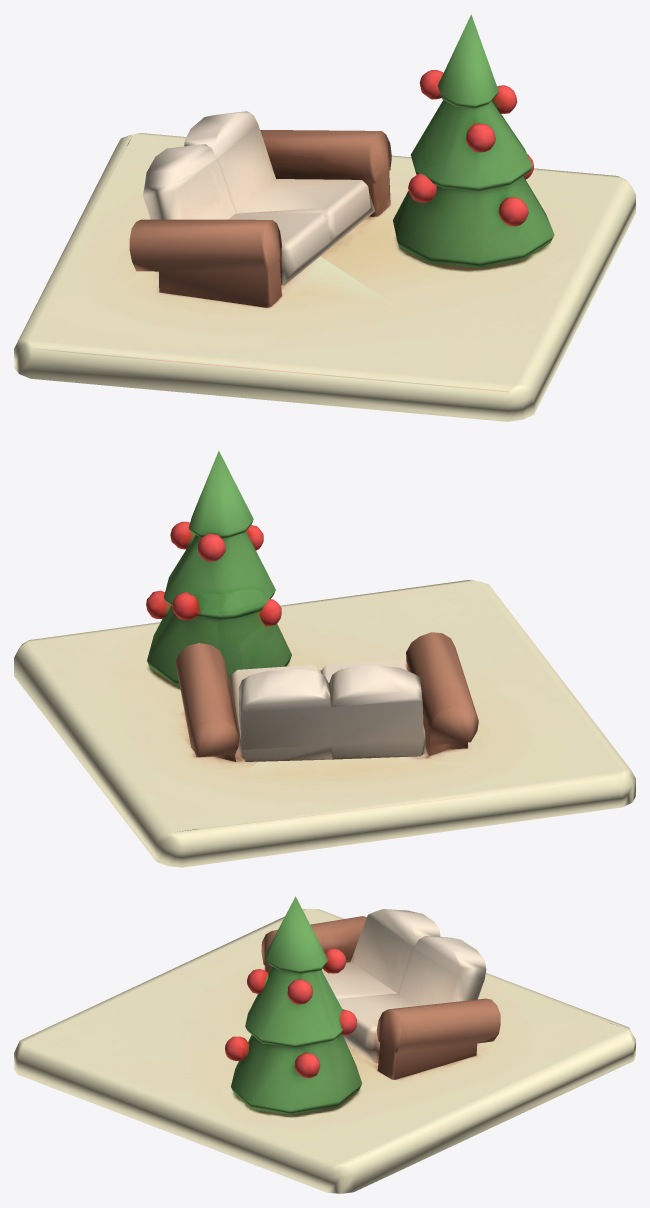
The picture shows the model from 3 angles, top to bottom: view 1: azimuth 30°, elevation 25°; view 2: azimuth 150°, elevation 25°; view 3: azimuth 270°, elevation 25°; orthographic projection. The views are drawn at different scales.
Visible parts, largest first — view 1: tripo_node_1f0e999a-bf4d-4a0e-8bee-c389e3c90471; view 2: tripo_node_1f0e999a-bf4d-4a0e-8bee-c389e3c90471; view 3: tripo_node_1f0e999a-bf4d-4a0e-8bee-c389e3c90471.
Part boxes in pixels (box(x1,y1,x2,y2)): tripo_node_1f0e999a-bf4d-4a0e-8bee-c389e3c90471: box(14, 14, 635, 421); tripo_node_1f0e999a-bf4d-4a0e-8bee-c389e3c90471: box(14, 450, 635, 867); tripo_node_1f0e999a-bf4d-4a0e-8bee-c389e3c90471: box(14, 896, 635, 1193).
Bounding box in the file's own units: 1.37 × 0.5332 × 1.37.
Materials: 1 (1 with a texture image).
